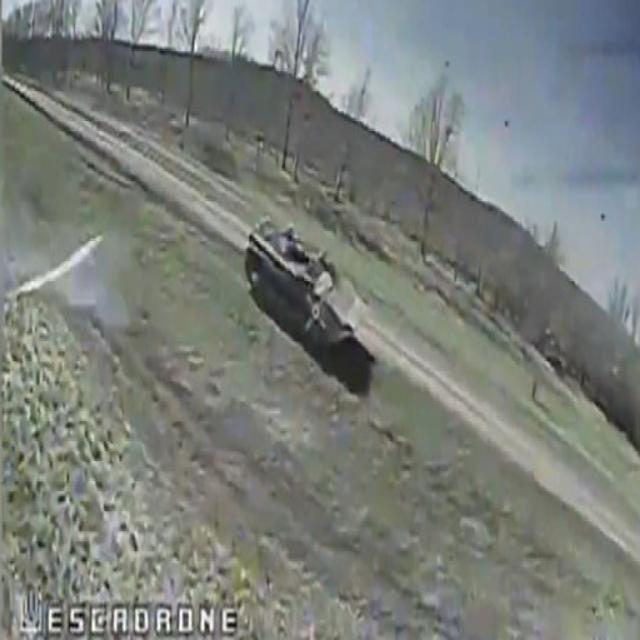APC-IFV: (237, 204, 365, 364)
